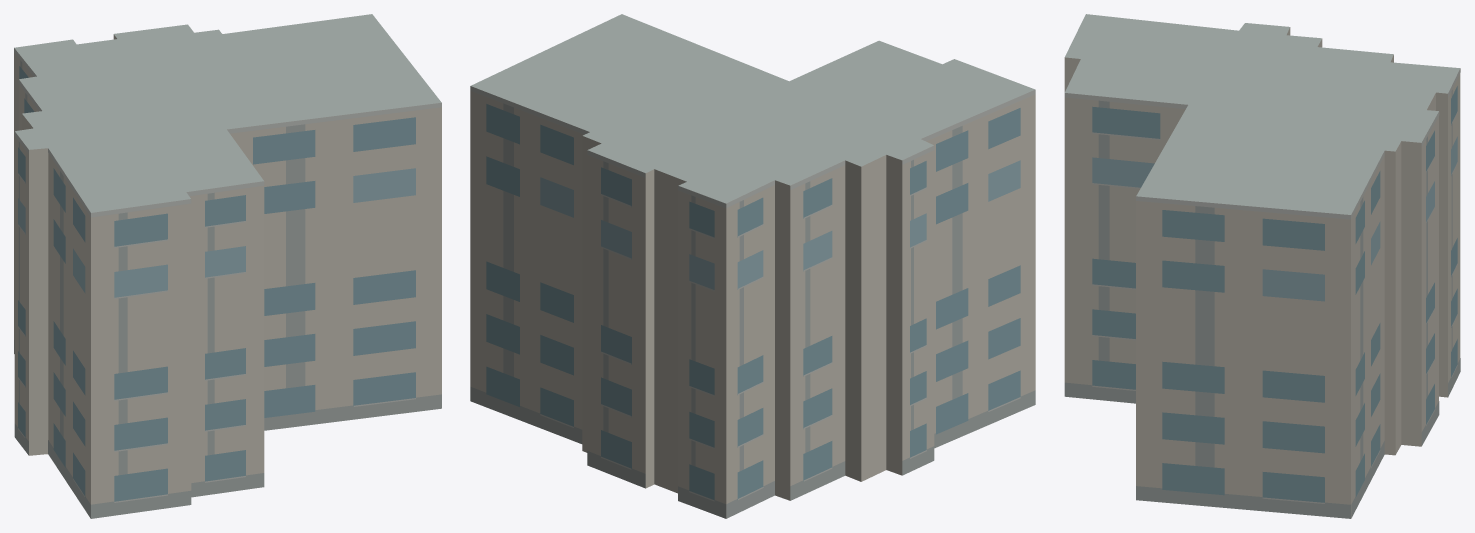
The model's file is survey-upis-32691219.glb.
3 views of the same model, side by side, from view 1: azimuth 30°, elevation 25°; view 2: azimuth 150°, elevation 25°; view 3: azimuth 270°, elevation 25° (orthographic). The views are drawn at different scales.
Visible parts, largest first — view 1: survey-upis-32691219.tmp; view 2: survey-upis-32691219.tmp; view 3: survey-upis-32691219.tmp.
Part boxes in pixels (left/top/right/bottom): survey-upis-32691219.tmp: left=14, top=14, right=441, bottom=518; survey-upis-32691219.tmp: left=470, top=14, right=1035, bottom=518; survey-upis-32691219.tmp: left=1064, top=14, right=1460, bottom=518.
Size of the model in its own units: 23.14 by 16.3 by 19.25.
